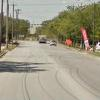Tree: (50, 12, 86, 41)
